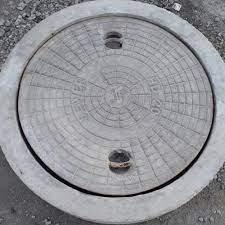closed manhole-not overflowing-: (2, 2, 225, 220)
